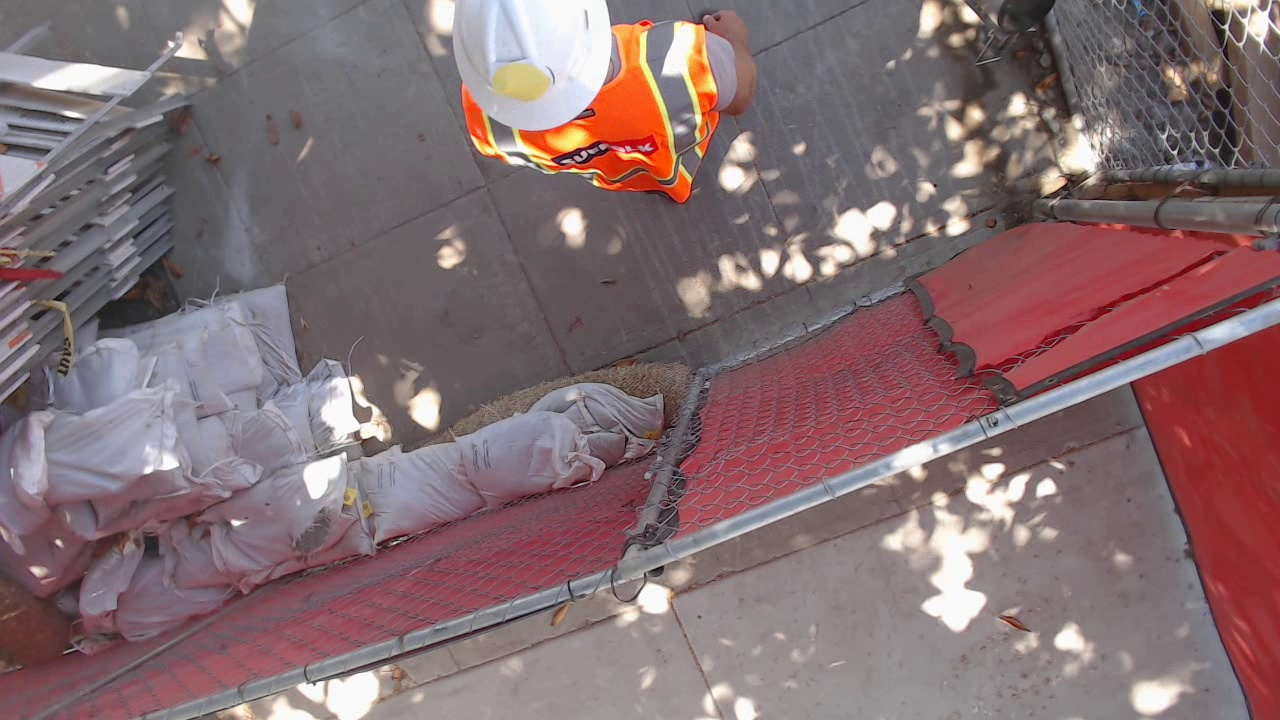hardhat: (451, 1, 615, 134)
person: (451, 1, 759, 204)
safetyvest: (458, 21, 720, 205)
yellow: (483, 59, 556, 108)
